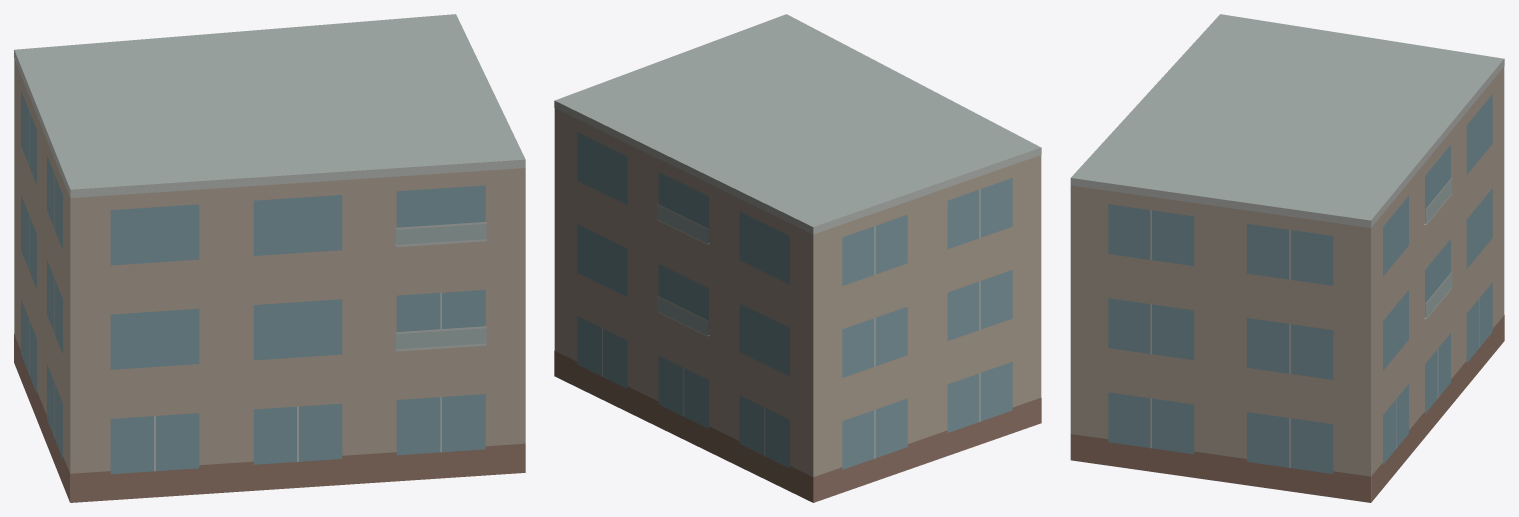
Rendered from survey-upis-32718981.glb.
3 views of the same model, side by side, from view 1: azimuth 30°, elevation 25°; view 2: azimuth 150°, elevation 25°; view 3: azimuth 270°, elevation 25° (orthographic). The views are drawn at different scales.
Parts seen in each view (by area): view 1: survey-upis-32718981.tmp; view 2: survey-upis-32718981.tmp; view 3: survey-upis-32718981.tmp.
Part boxes in pixels (x1,y1,x2,y2): survey-upis-32718981.tmp: [14, 14, 525, 502]; survey-upis-32718981.tmp: [554, 14, 1041, 502]; survey-upis-32718981.tmp: [1070, 14, 1504, 502].
Size of the model in its own units: 14.36 by 9.15 by 12.75.
